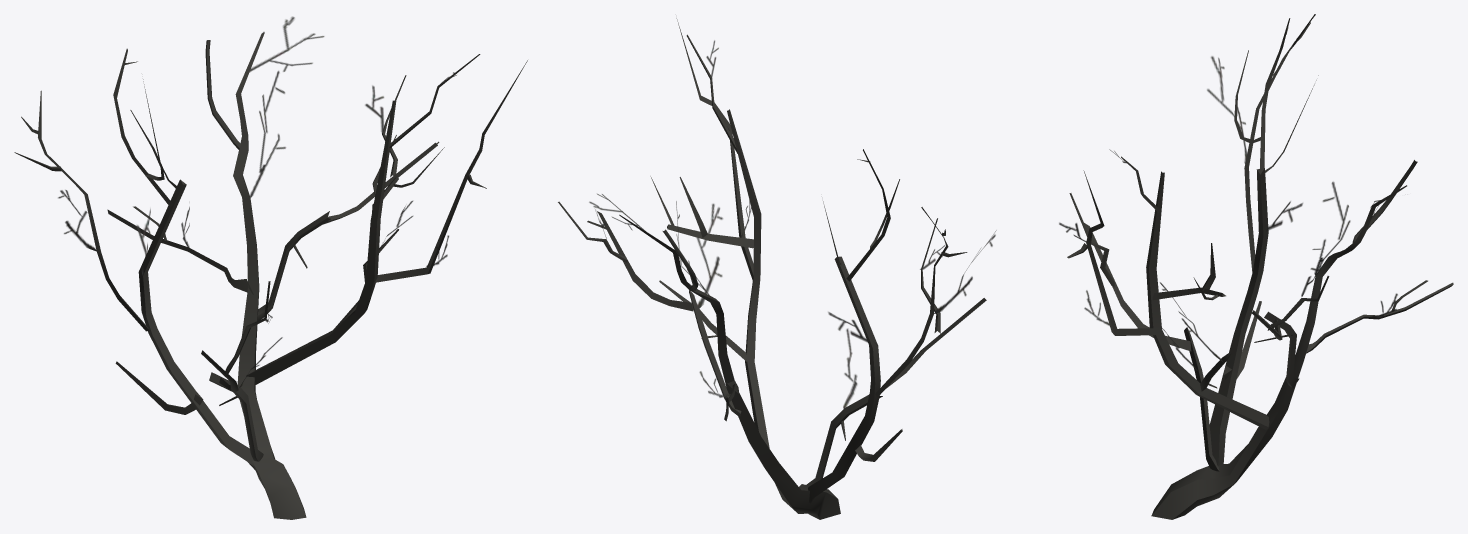
3 views of the same model, side by side, from view 1: azimuth 30°, elevation 25°; view 2: azimuth 150°, elevation 25°; view 3: azimuth 270°, elevation 25° (orthographic). The views are drawn at different scales.
Visible parts, largest first — view 1: body0_model0_lod0_mesh0; view 2: body0_model0_lod0_mesh0; view 3: body0_model0_lod0_mesh0.
Boxes of the visible parts, x1,y1,x2,y2 form: body0_model0_lod0_mesh0: (14, 16, 527, 519); body0_model0_lod0_mesh0: (558, 18, 996, 519); body0_model0_lod0_mesh0: (1059, 14, 1453, 519).
Bounding box in the file's own units: 94.73 × 99.05 × 83.62.
Materials: 1 (1 with a texture image).
